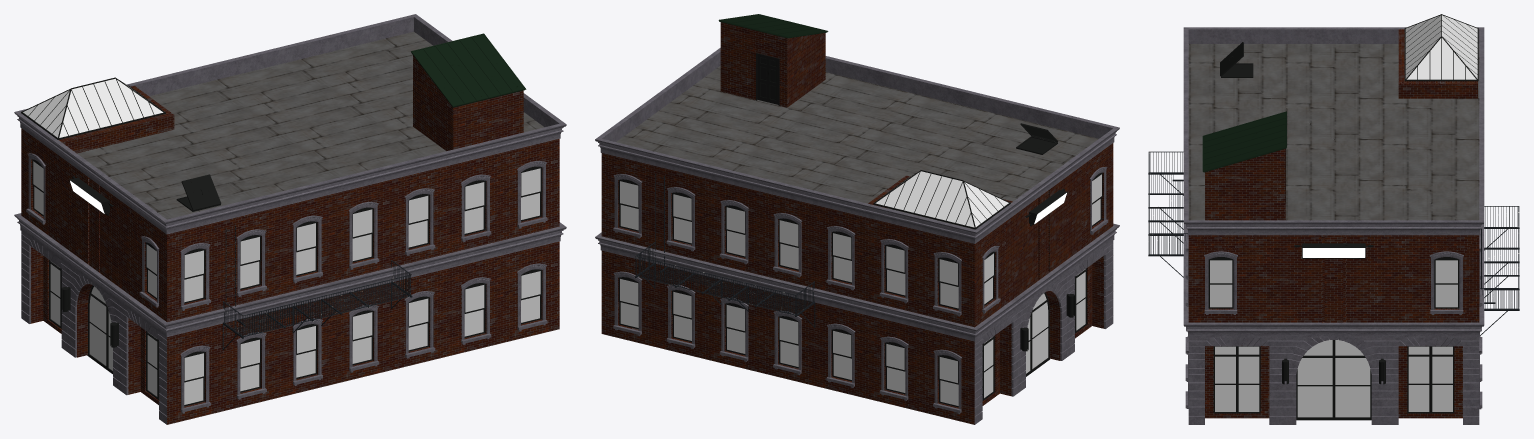
File: Building_25.fbx
3 views of the same model, side by side, from view 1: azimuth 30°, elevation 25°; view 2: azimuth 150°, elevation 25°; view 3: azimuth 270°, elevation 25° (orthographic). The views are drawn at different scales.
Parts seen in each view (by area): view 1: Building_25_LOD0; view 2: Building_25_LOD0; view 3: Building_25_LOD0.
Part boxes in pixels (x1,y1,x2,y2): Building_25_LOD0: (14, 14, 566, 424); Building_25_LOD0: (595, 14, 1119, 424); Building_25_LOD0: (1148, 14, 1519, 424).
Size of what is drawn, in the model's own units: 1783 by 1113 by 1403.
